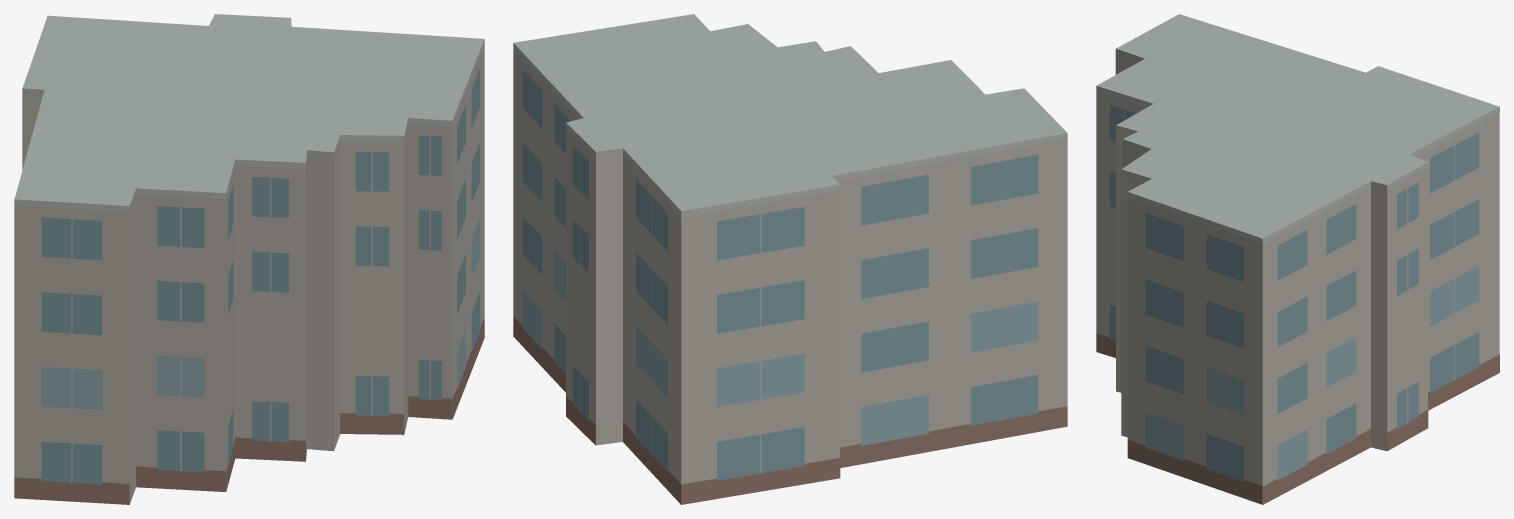
File: survey-upis-32576605.glb
The picture shows the model from 3 angles, left to right: view 1: azimuth 30°, elevation 25°; view 2: azimuth 150°, elevation 25°; view 3: azimuth 270°, elevation 25°; orthographic projection. The views are drawn at different scales.
Parts seen in each view (by area): view 1: survey-upis-32576605.tmp; view 2: survey-upis-32576605.tmp; view 3: survey-upis-32576605.tmp.
Boxes of the visible parts, <box> form: survey-upis-32576605.tmp: <box>14,14,484,504</box>; survey-upis-32576605.tmp: <box>513,14,1067,504</box>; survey-upis-32576605.tmp: <box>1096,14,1499,504</box>.
Size of the model in its own units: 21.65 by 11.95 by 16.43.
